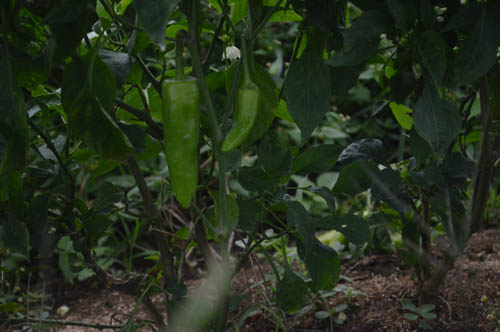ChiliPepper: (155, 78, 207, 211), (216, 74, 265, 153)
